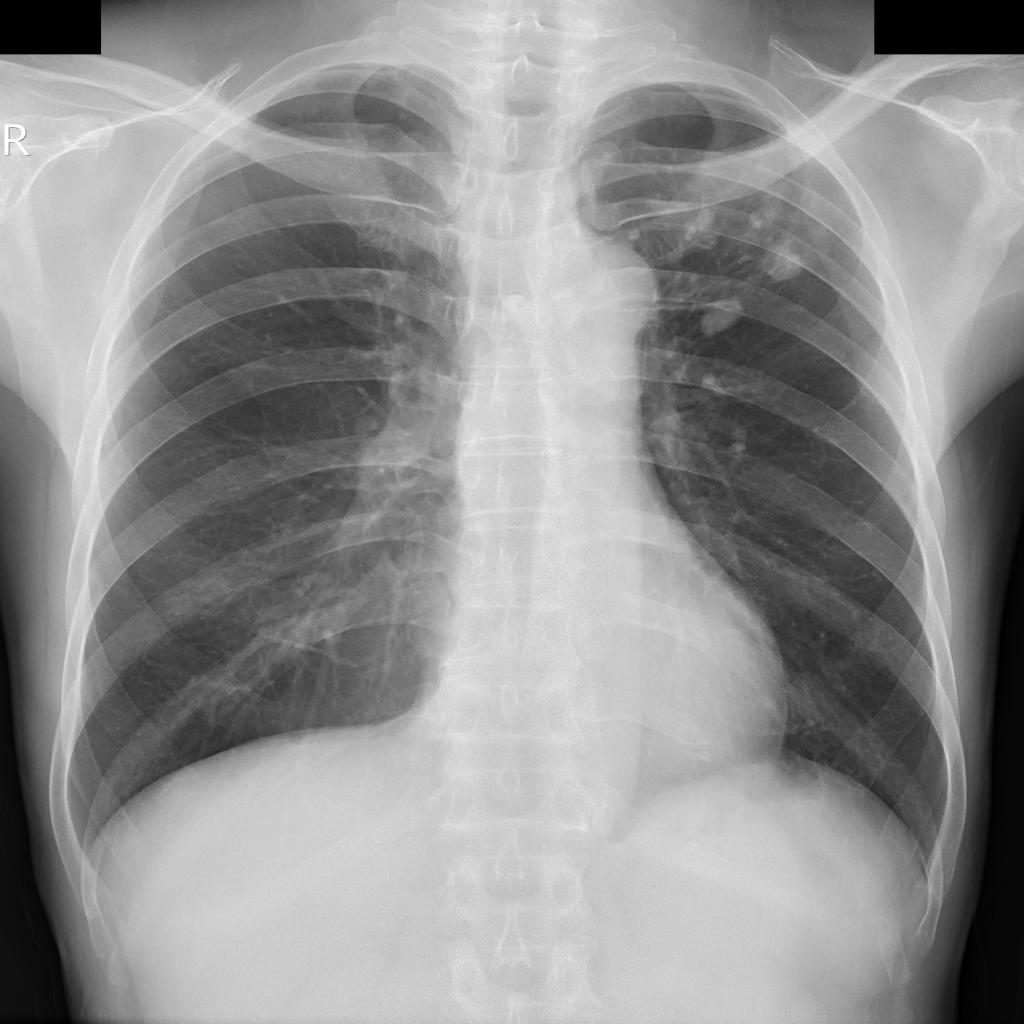Nodule: (698, 296, 751, 337), (757, 242, 809, 282), (750, 197, 783, 227), (699, 371, 728, 394)
